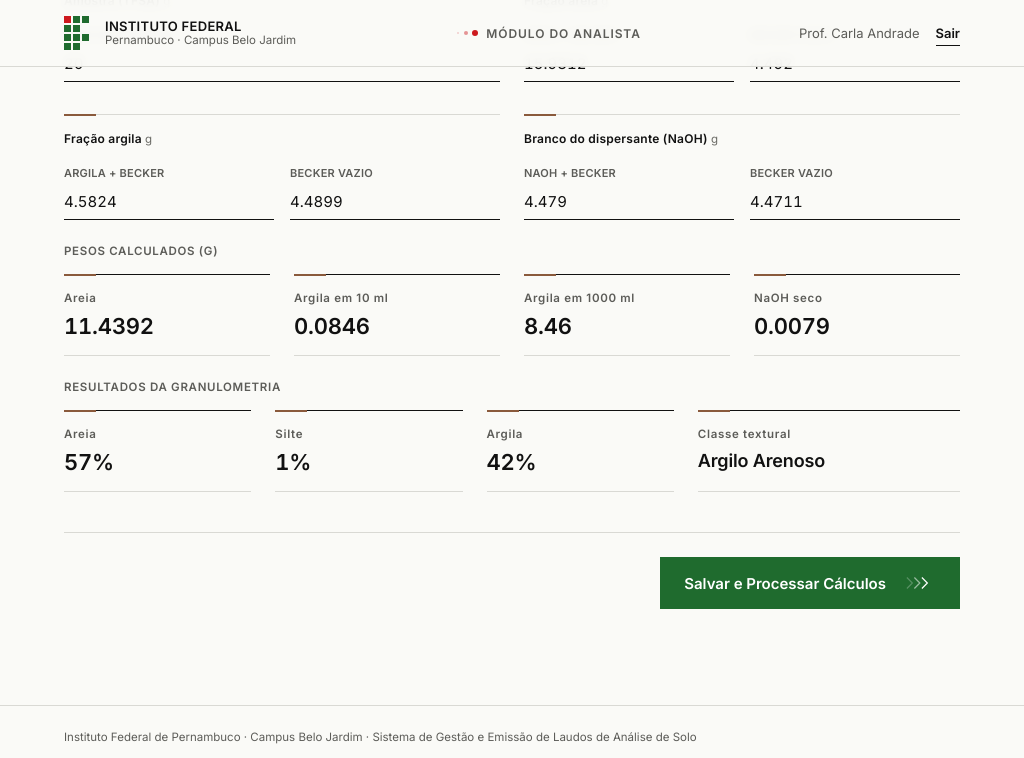
AnaliseLaudoPage › processa cálculos com sucesso e transiciona para a aba de homologação
(page scrolled)
Click the button "Salvar e Processar Cálculos" at (810, 583), box [660,557,960,609]
(page scrolled)
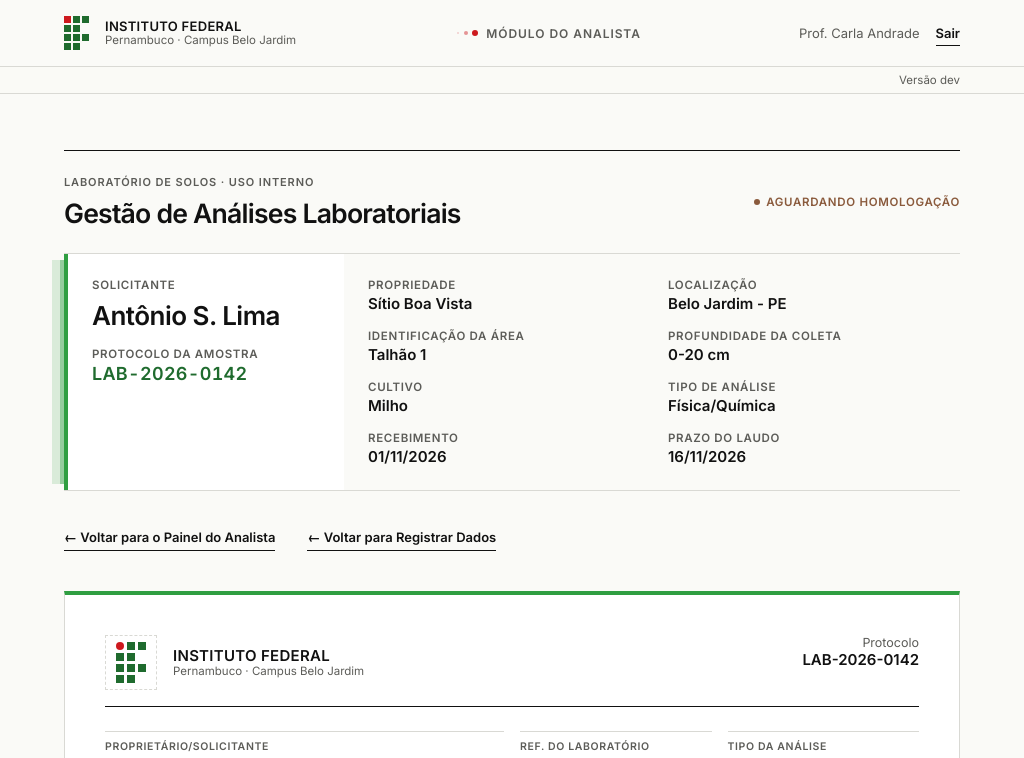
Expected: the text "Aguardando homologação" is shown, [754,195,960,209]
